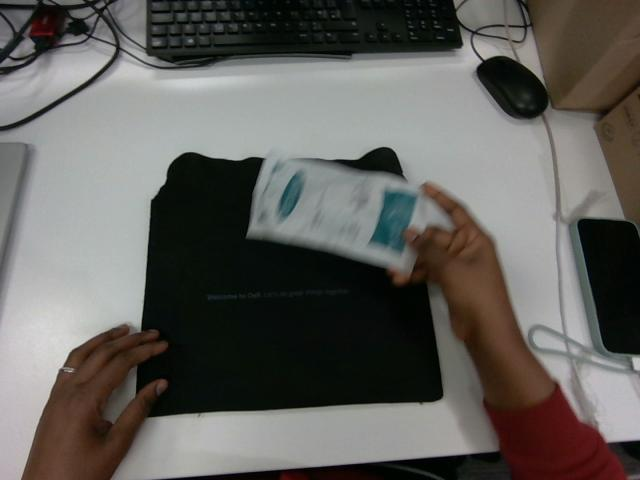gallipot: (247, 153, 434, 272)
